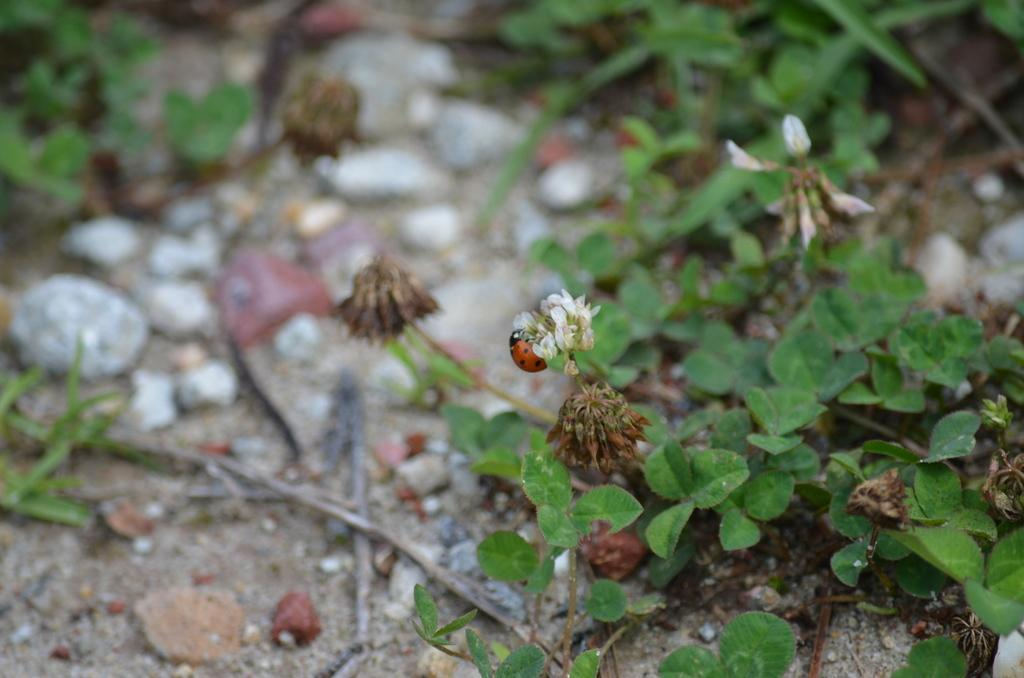ladybug: (507, 325, 551, 377)
